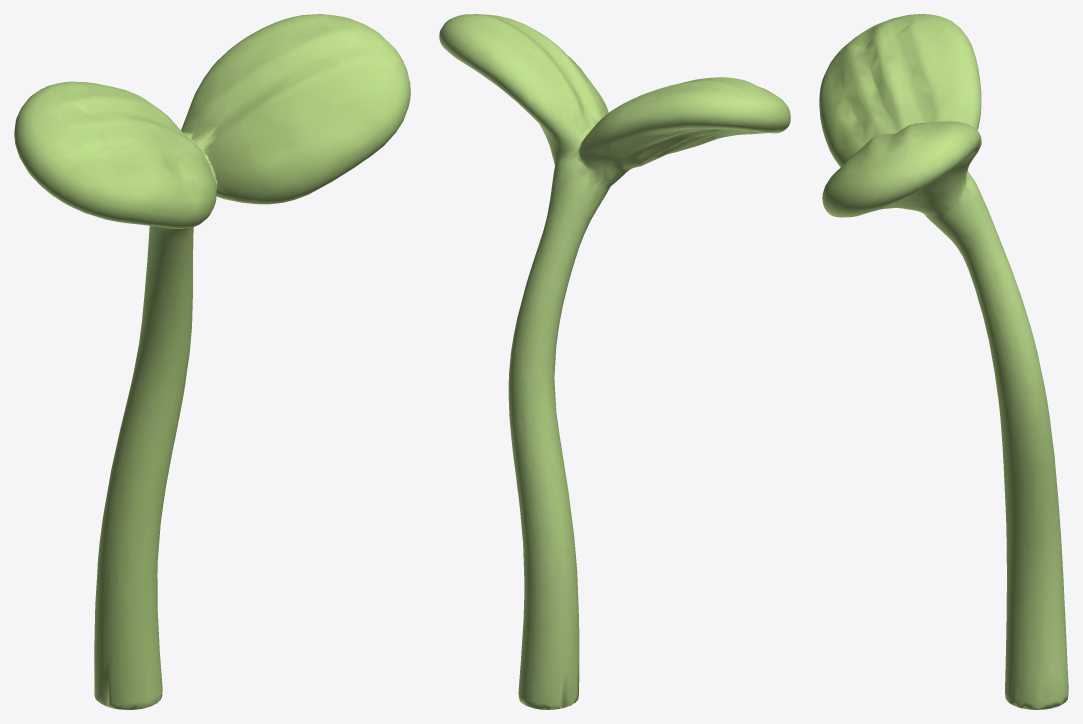
The model's file is sprout.glb.
3 renders of one model, left to right at view 1: azimuth 30°, elevation 25°; view 2: azimuth 150°, elevation 25°; view 3: azimuth 270°, elevation 25°, orthographic. The views are drawn at different scales.
Size of the model in its own units: 1.09 by 1.9 by 0.6877.
1 material, 1 textured.
